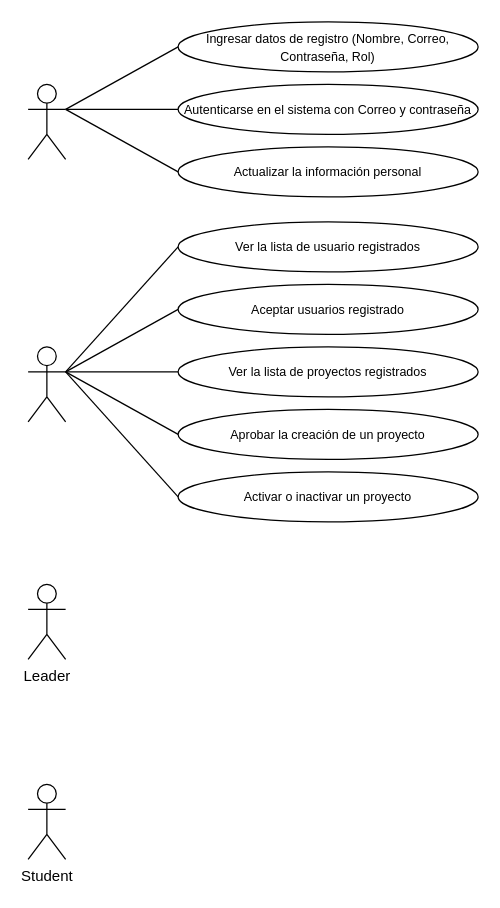
This 500x908 diagram has some shape labels left out. Each missing label, with the box of its shape:
Admin: (27, 346, 66, 422)
User: (27, 83, 66, 159)
